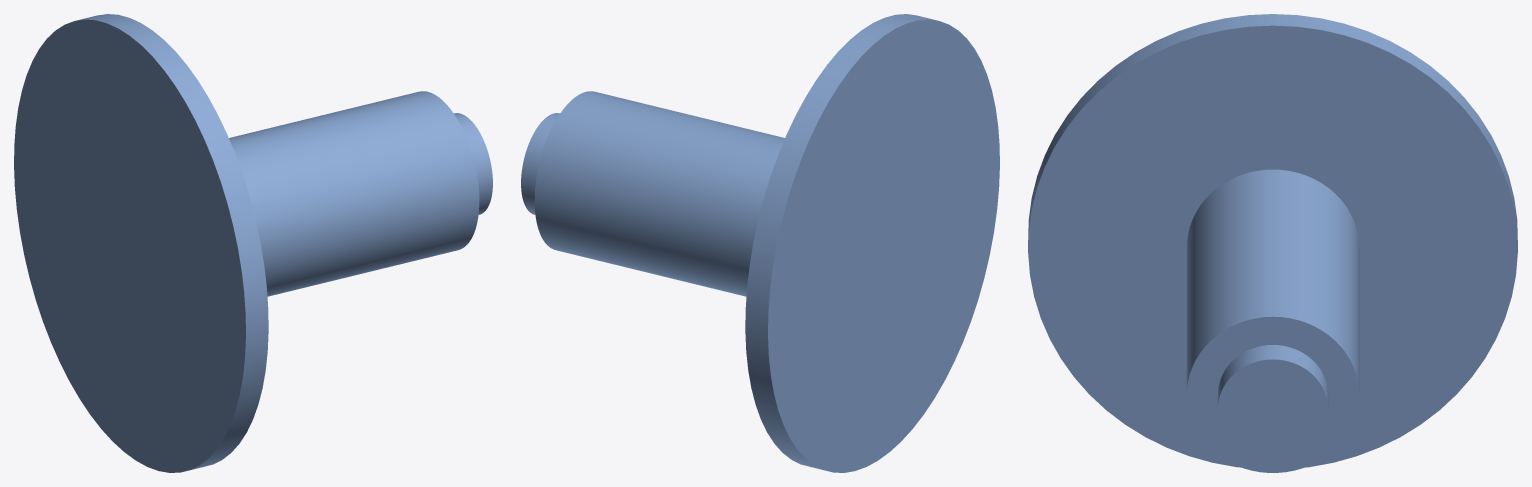
The model's file is step_27.glb.
3 renders of one model, left to right at view 1: azimuth 30°, elevation 25°; view 2: azimuth 150°, elevation 25°; view 3: azimuth 270°, elevation 25°, orthographic. The views are drawn at different scales.
Parts seen in each view (by area): view 1: part__8" gate valve bonnet and stem; view 2: part__8" gate valve bonnet and stem; view 3: part__8" gate valve bonnet and stem.
Part boxes in pixels (<box>): part__8" gate valve bonnet and stem: <box>14,14,492,472</box>; part__8" gate valve bonnet and stem: <box>521,14,999,472</box>; part__8" gate valve bonnet and stem: <box>1028,14,1517,472</box>.
Bounding box in the file's own units: 261 × 311 × 311.
